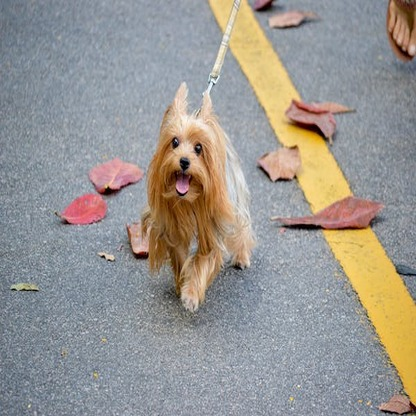yorkshire: (144, 80, 257, 315)
